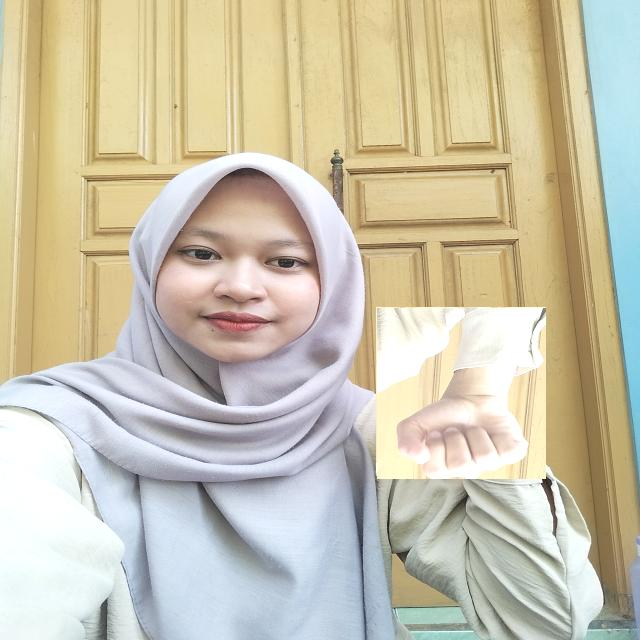baik: (376, 307, 546, 479)
